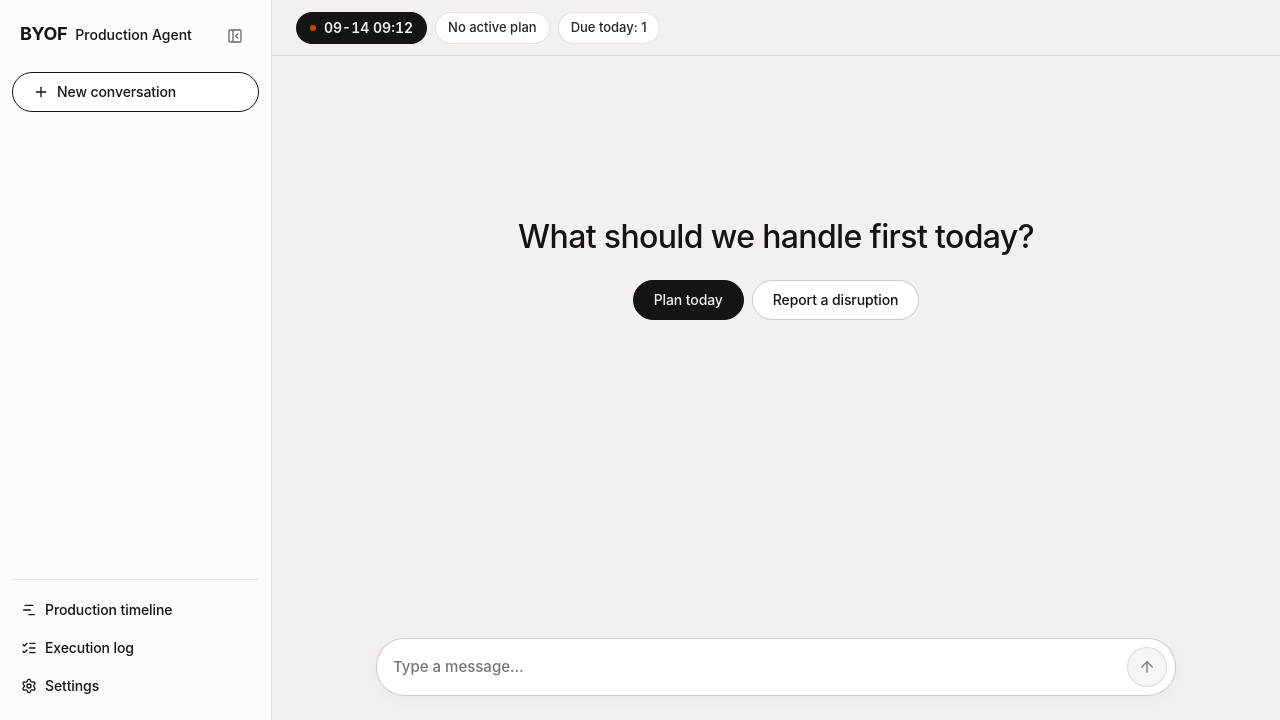
Test: manager and disruption simulator workbench › manager navigation only offers the conversation, timeline and execution log; switching pages neither reloads nor unmounts the sidebar
Expected: the element named "Production Agent" is shown, top-left (376, 217), bottom-right (1176, 696)
Click the button "Execution log". click: (136,648)
box: top-left (12, 630), bottom-right (259, 666)
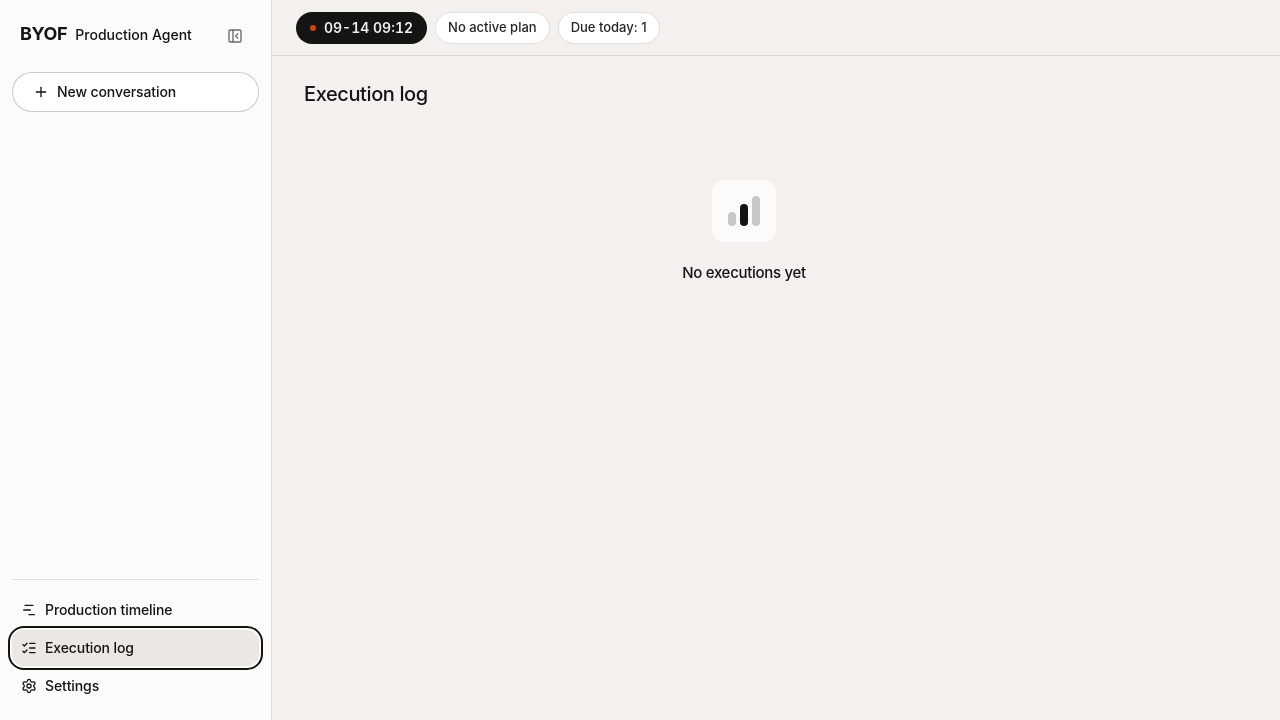
Result: the heading "Execution log" is shown at top-left (304, 82), bottom-right (428, 106)
Click the button "New conversation". click: (136,92)
box: top-left (12, 72), bottom-right (259, 112)
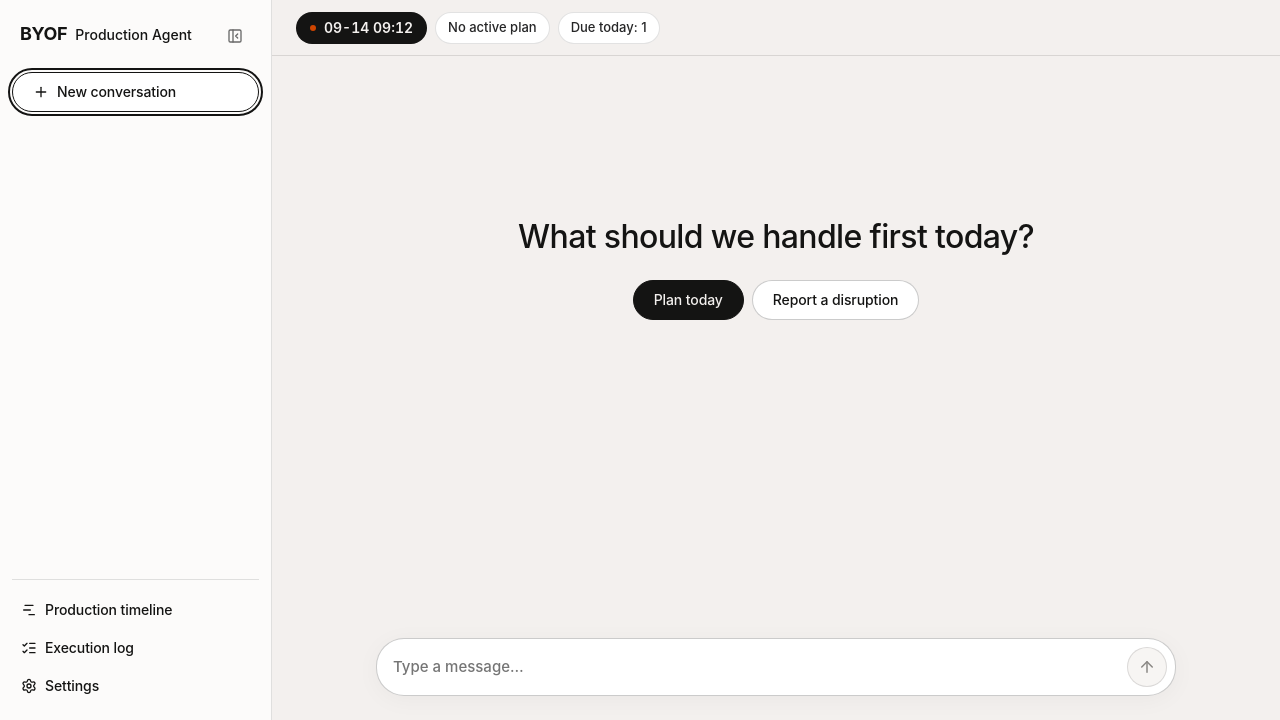
Result: the element named "Production Agent" is shown at top-left (376, 217), bottom-right (1176, 696)
